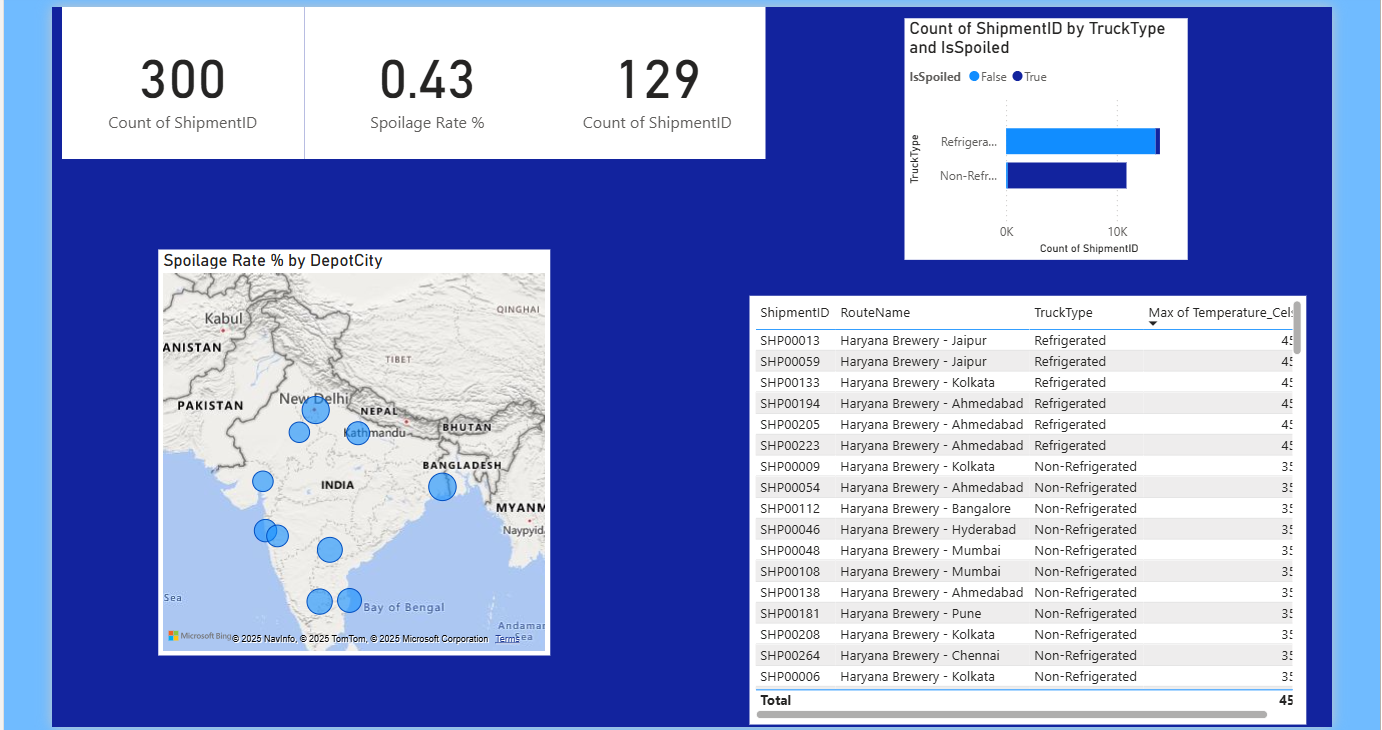

The dashboard page shown, as its layout file describes it:
{"tool":"powerbi","page":{"name":"Page 1","canvas":[1280,720],"ordinal":0},"visuals":[{"type":"card","fields":{"Values":["Count(shipment_analysis_output.ShipmentID)"]},"box":[10,0,242,152],"z":0},{"type":"card","fields":{"Values":["shipment_analysis_output.Spoilage Rate %"]},"box":[252,0,246,152],"z":1000},{"type":"card","fields":{"Values":["Count(shipment_analysis_output.ShipmentID)"]},"box":[498,0,216,152],"z":2000},{"type":"barChart","fields":{"Category":["shipment_analysis_output.TruckType"],"Y":["CountNonNull(shipment_analysis_output.ShipmentID)"],"Series":["shipment_analysis_output.IsSpoiled"]},"box":[852.9,11.4,282.9,241.4],"z":3000},{"type":"map","fields":{"Category":["shipment_analysis_output.DepotCity"],"Size":["shipment_analysis_output.Spoilage Rate %"]},"box":[105.7,242.9,391.4,405.7],"z":4000},{"type":"tableEx","fields":{"Values":["shipment_analysis_output.ShipmentID","shipment_analysis_output.RouteName","shipment_analysis_output.TruckType","Max(shipment_analysis_output.Temperature_Celsius)"]},"box":[697.1,288.6,557.1,428.6],"z":5000}]}

Visuals, with their boxes in screenshot pixels (x1, y1, x2, y2):
card - Count(shipment_analysis_output.ShipmentID): locate(57, 4, 299, 156)
card - shipment_analysis_output.Spoilage Rate %: locate(299, 4, 545, 156)
card - Count(shipment_analysis_output.ShipmentID): locate(545, 4, 761, 156)
barChart - shipment_analysis_output.TruckType x CountNonNull(shipment_analysis_output.ShipmentID): locate(900, 15, 1183, 257)
map - shipment_analysis_output.DepotCity x shipment_analysis_output.Spoilage Rate %: locate(153, 247, 544, 653)
tableEx - shipment_analysis_output.ShipmentID x shipment_analysis_output.RouteName: locate(744, 292, 1302, 721)
